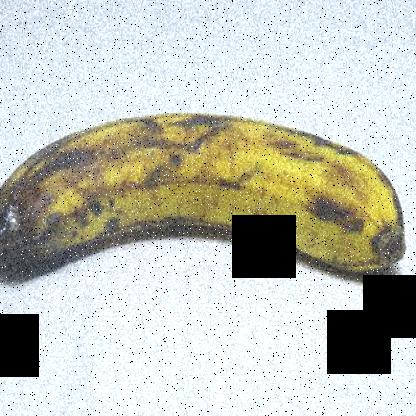overripe: (1, 86, 415, 323)
rotten: (1, 142, 89, 280)
